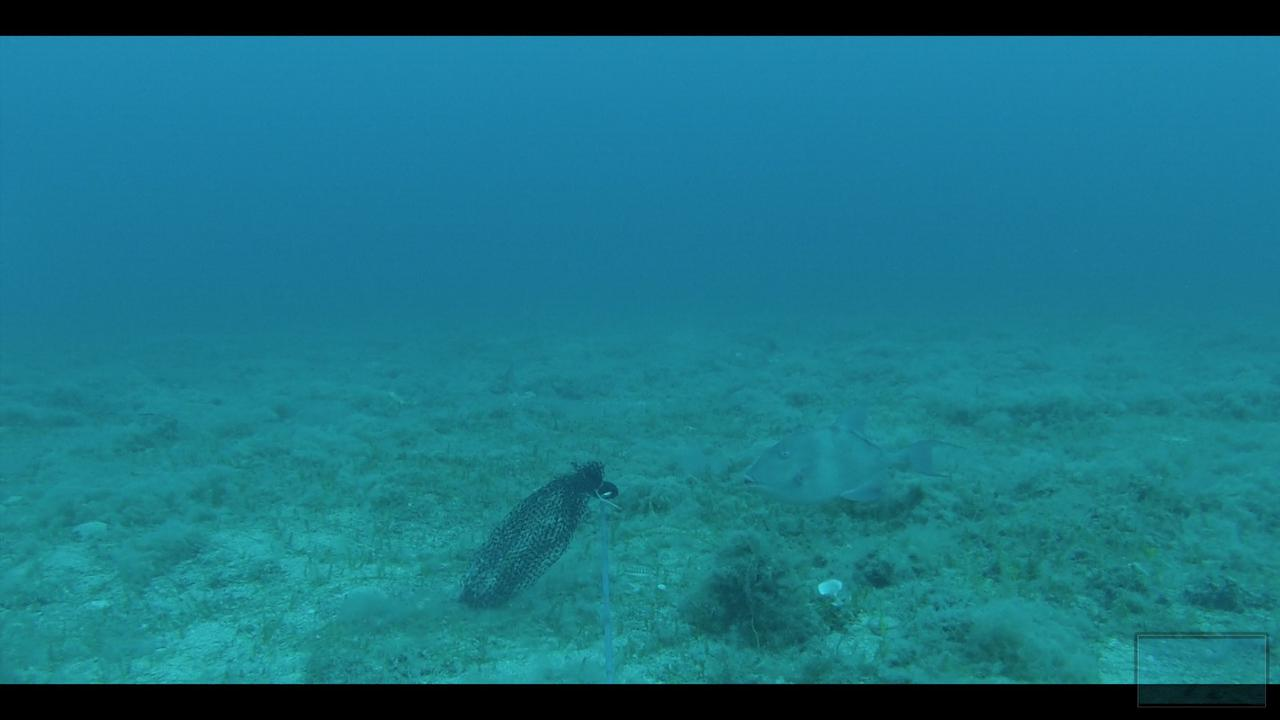balistes: (733, 398, 953, 526)
